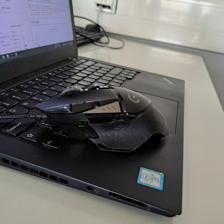mouse: (31, 82, 170, 155)
